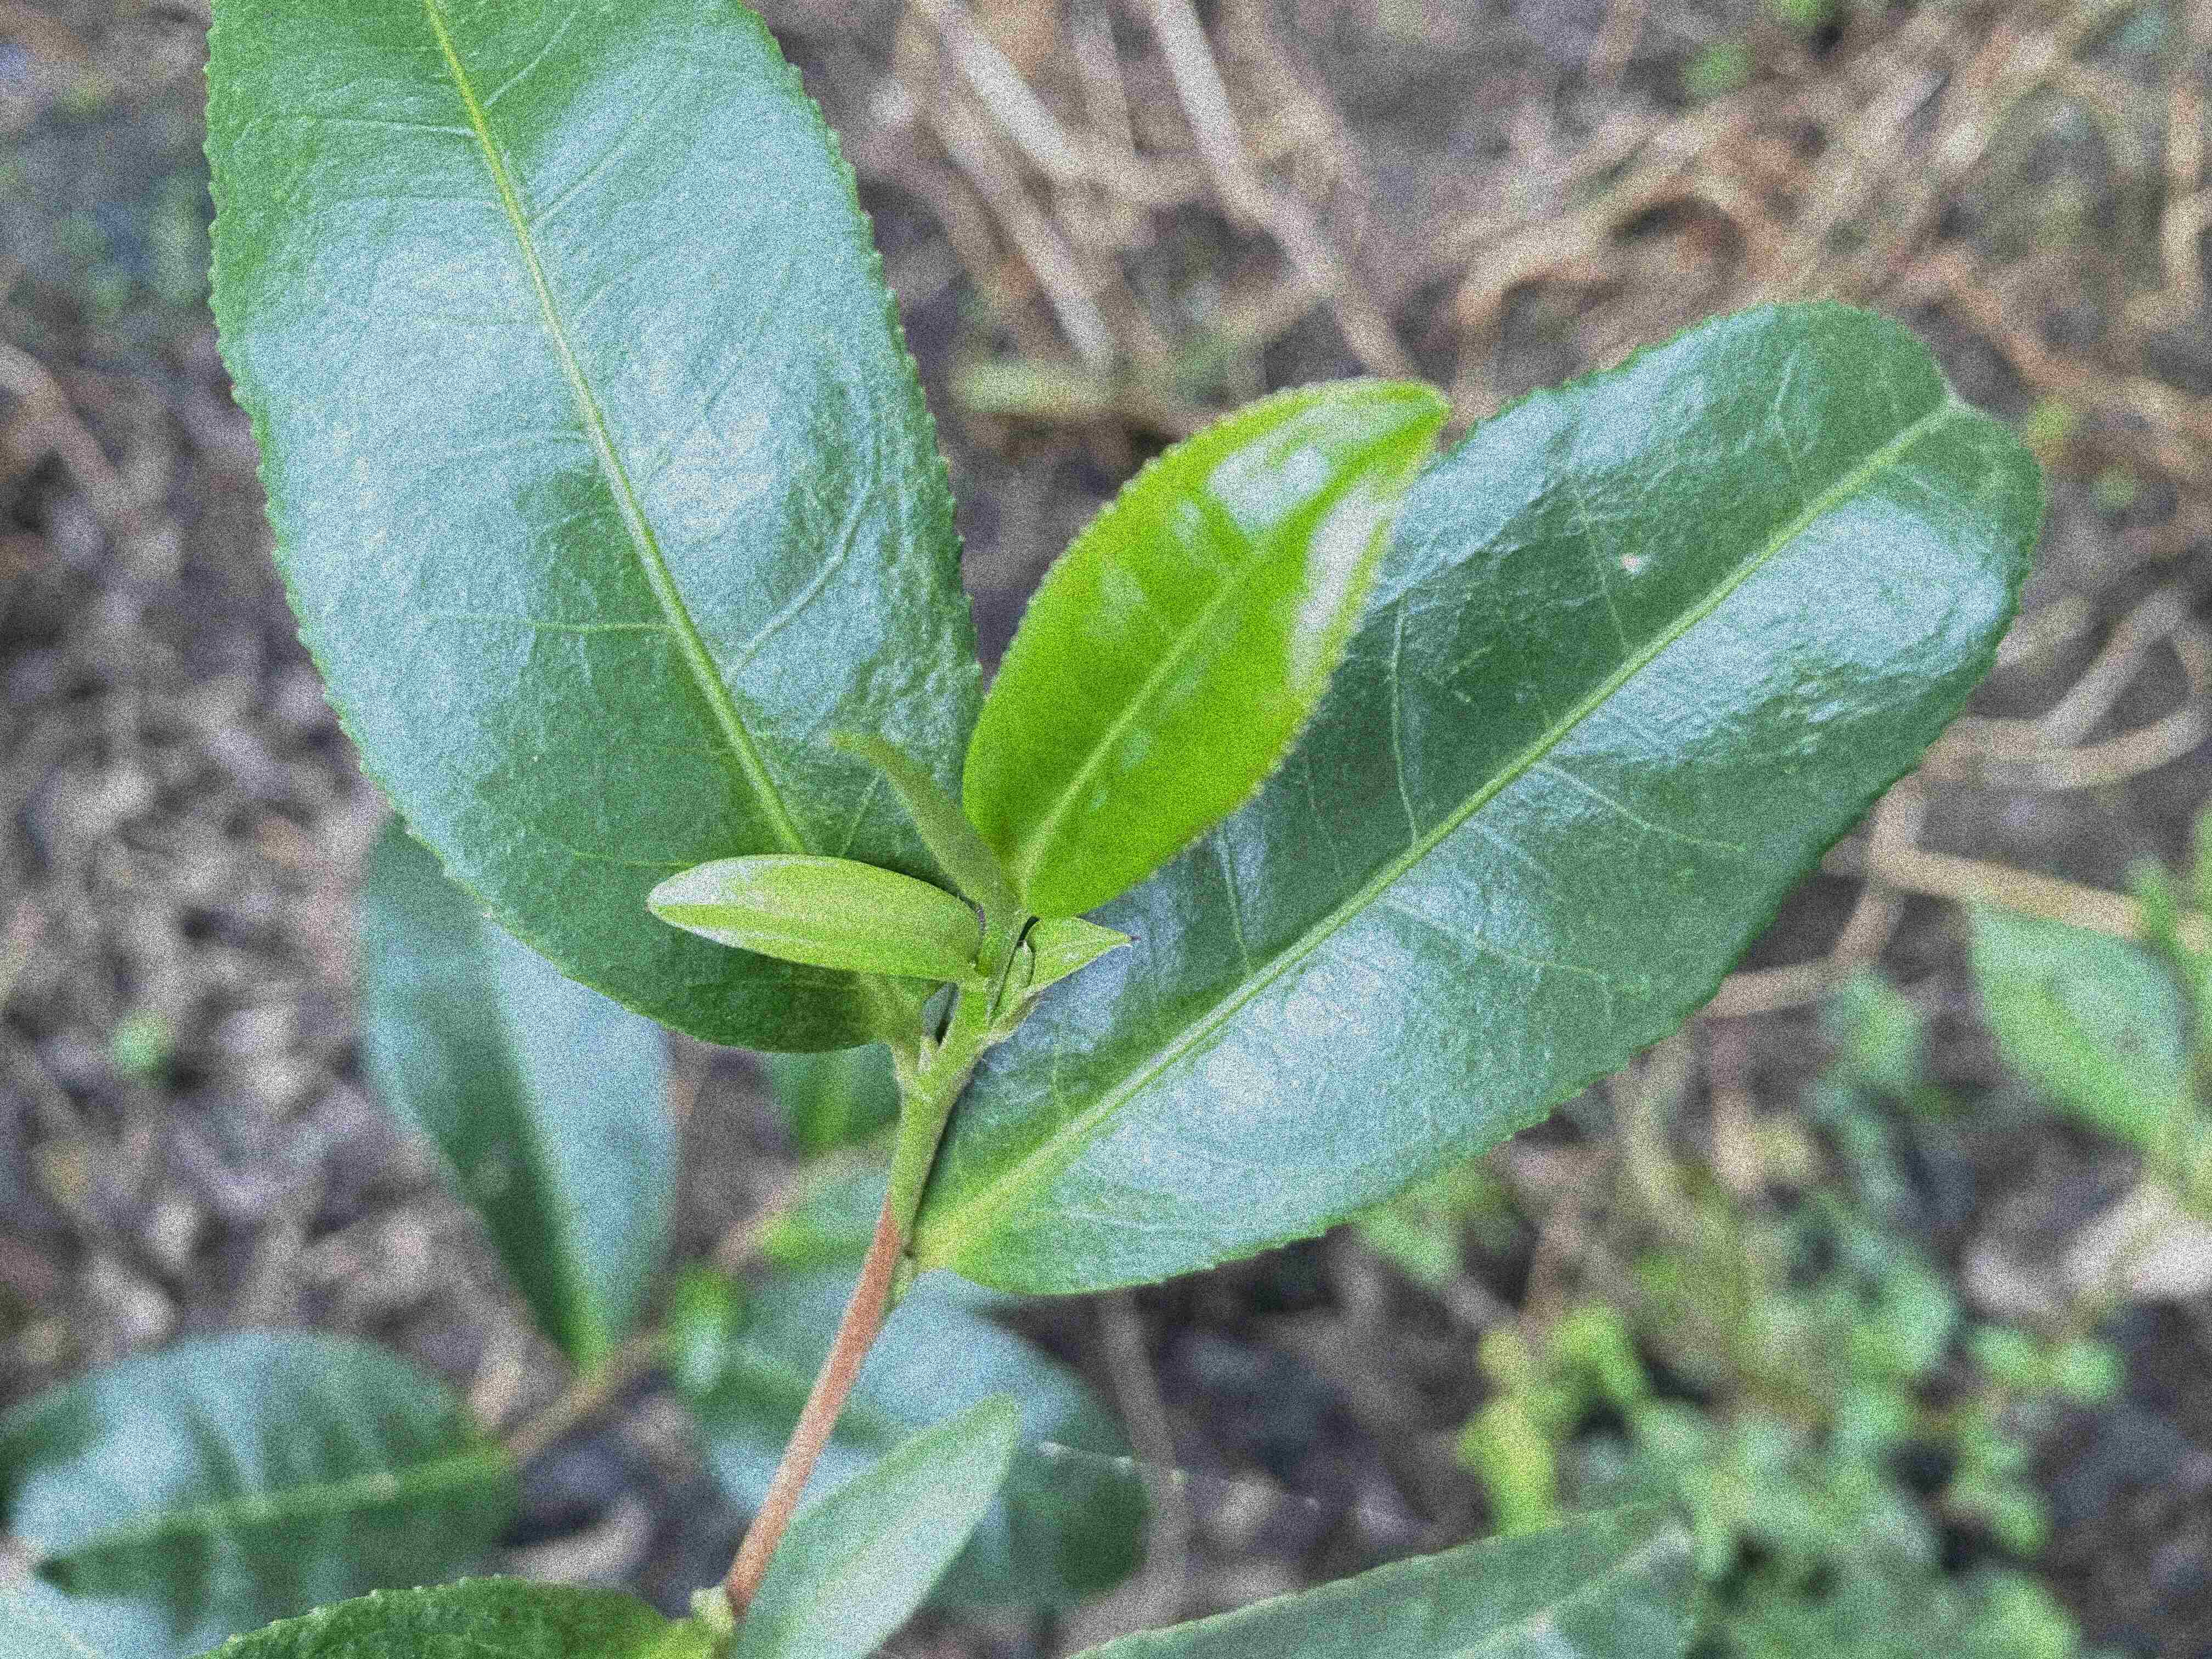healthy: (928, 298, 2045, 1297), (202, 0, 984, 1054), (958, 375, 1454, 915)
